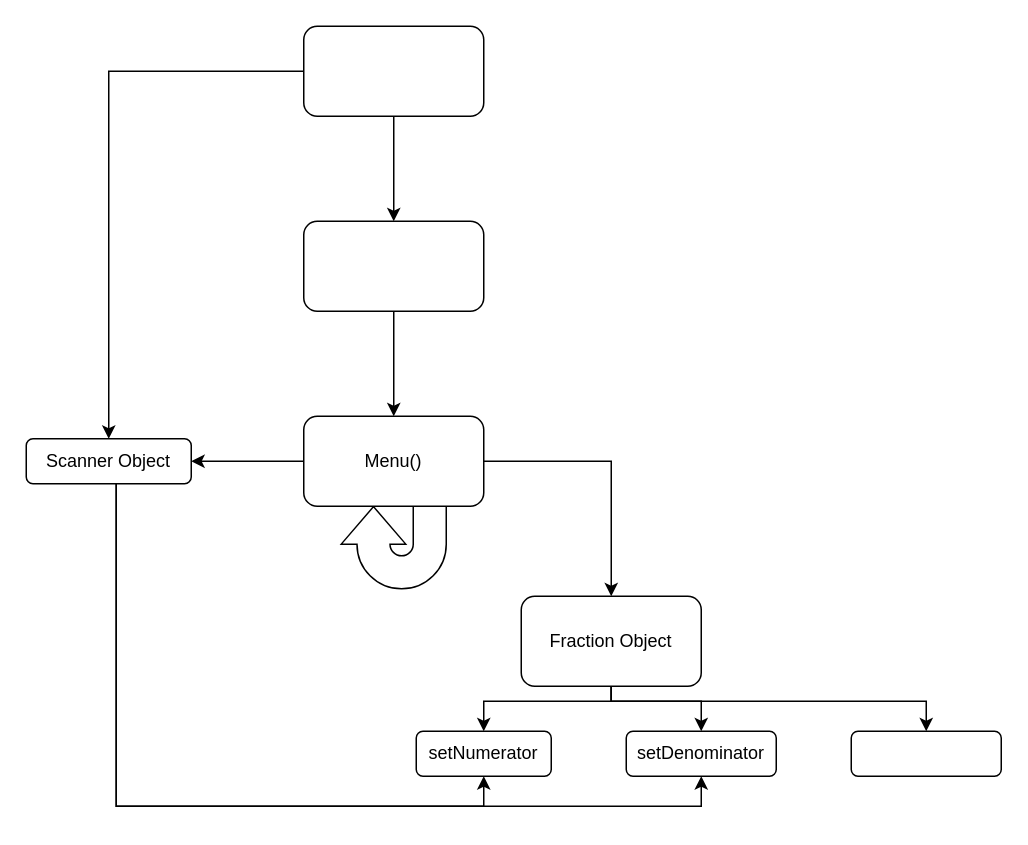
Some shapes in this 1028 by 845 pixel diagram are drawn without their labels. Each missing label, with the centre of its shape:
display_fraction: [925,753]
Main(): [393,265]
TestFraction: [393,70]
